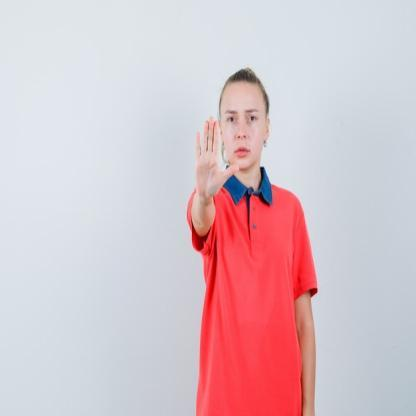stop: (192, 115, 240, 206)
